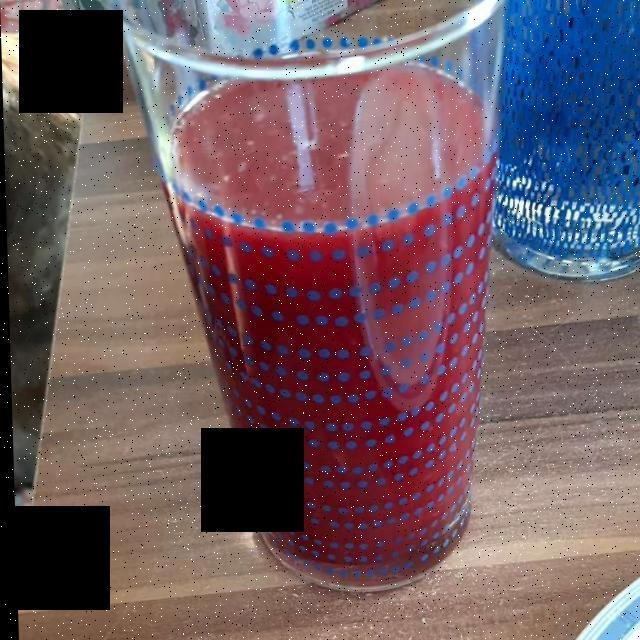juice: (164, 74, 501, 578)
